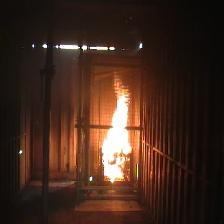fire: (103, 72, 132, 183)
